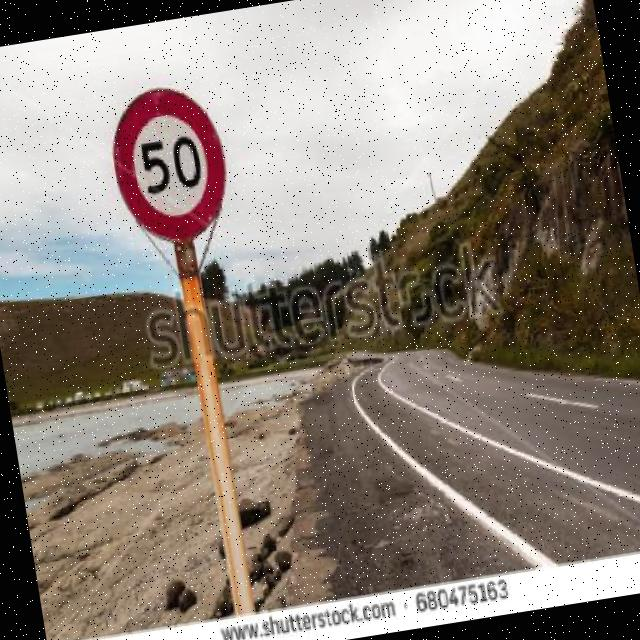Ograniczenie predkosci do 50: (103, 84, 235, 252)
